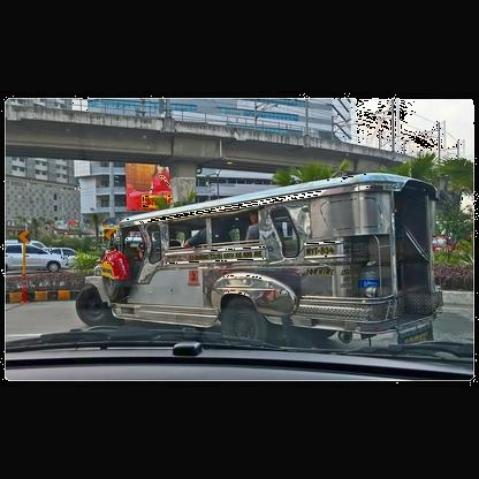jeepney: (72, 177, 449, 340)
